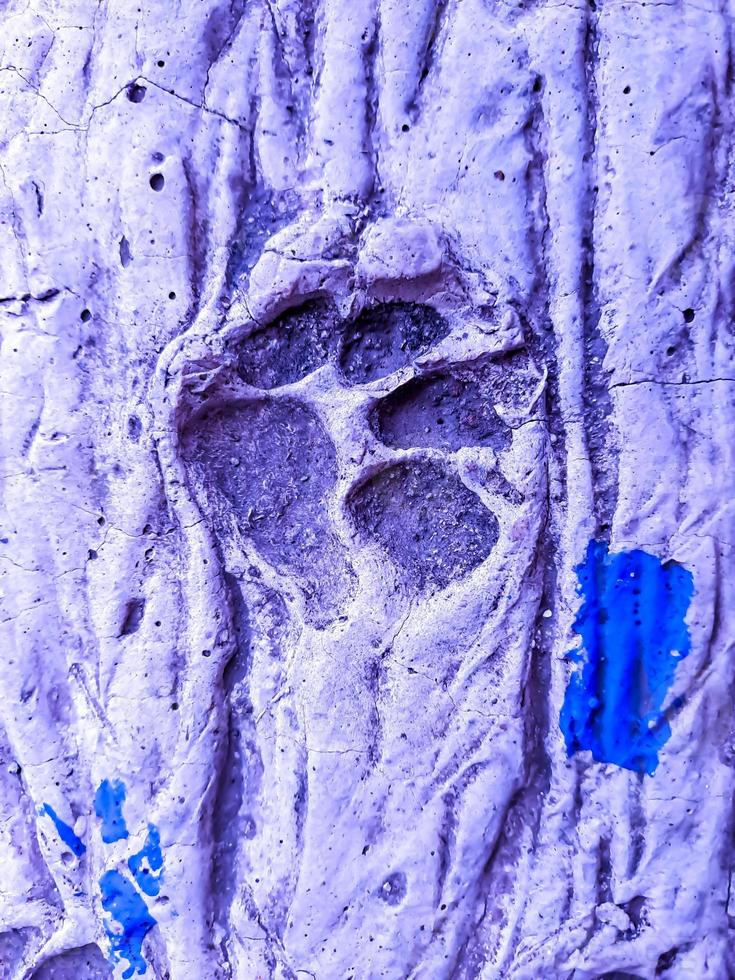cat: (167, 256, 512, 614)
